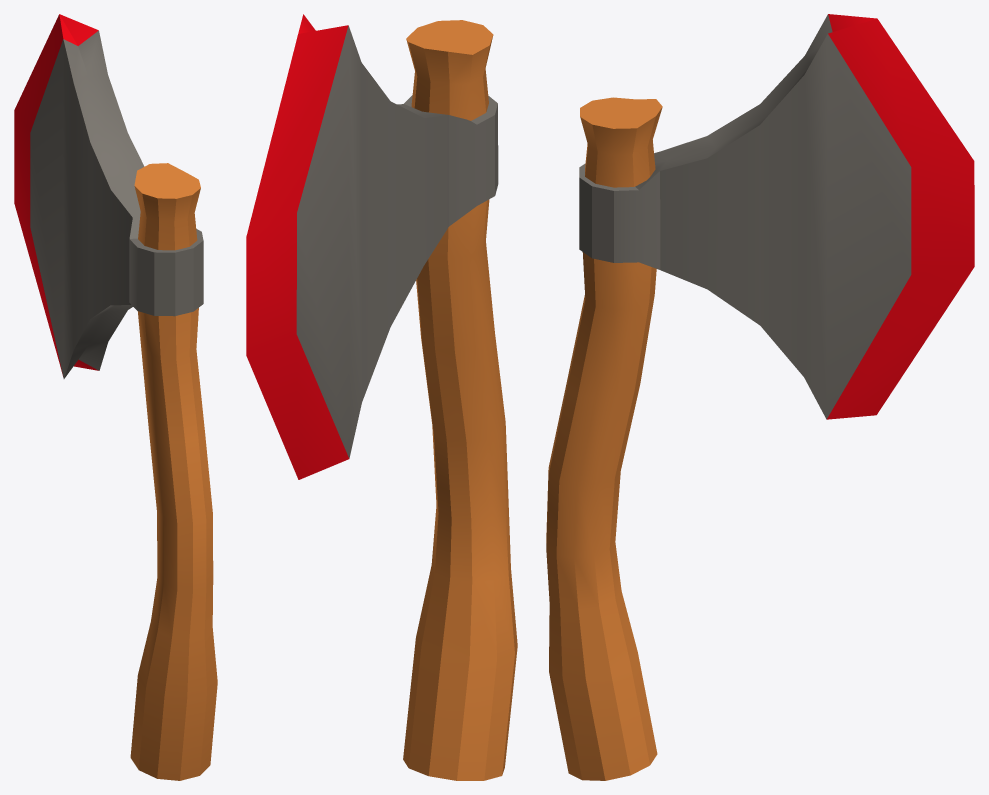
The model's file is Axe.fbx.
The picture shows the model from 3 angles, left to right: view 1: azimuth 30°, elevation 25°; view 2: azimuth 150°, elevation 25°; view 3: azimuth 270°, elevation 25°; orthographic projection. The views are drawn at different scales.
Parts seen in each view (by area): view 1: Axe; view 2: Axe; view 3: Axe.
Boxes of the visible parts, x1,y1,x2,y2 form: Axe: (14, 14, 217, 780); Axe: (246, 14, 517, 780); Axe: (546, 14, 974, 780).
Size of the model in its own units: 395 by 3536 by 1824.
